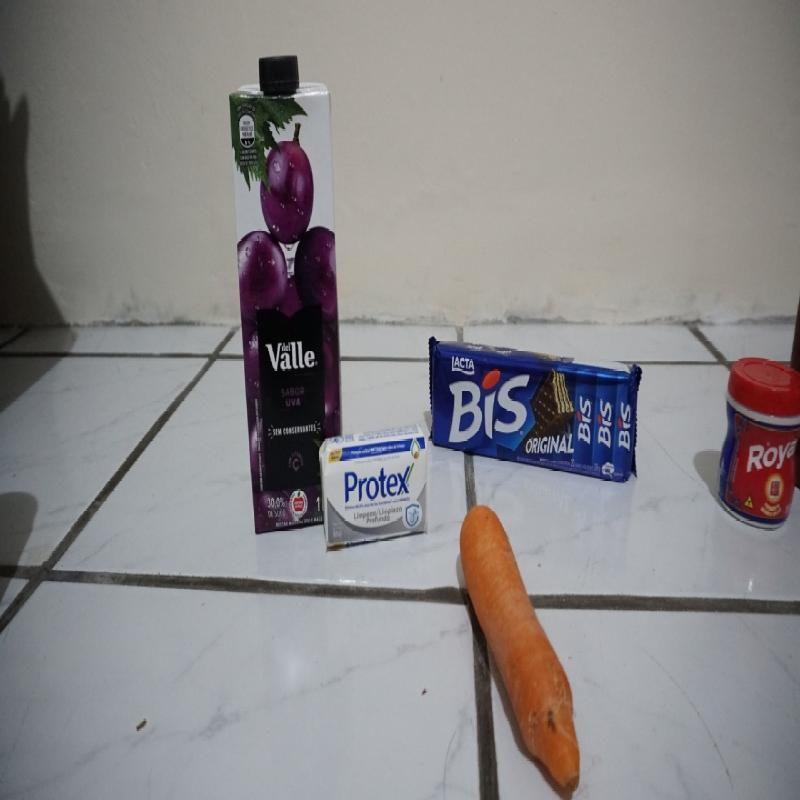Carrot: (458, 505, 582, 794)
Soap: (321, 422, 426, 541)
Yeast: (719, 357, 796, 529)
